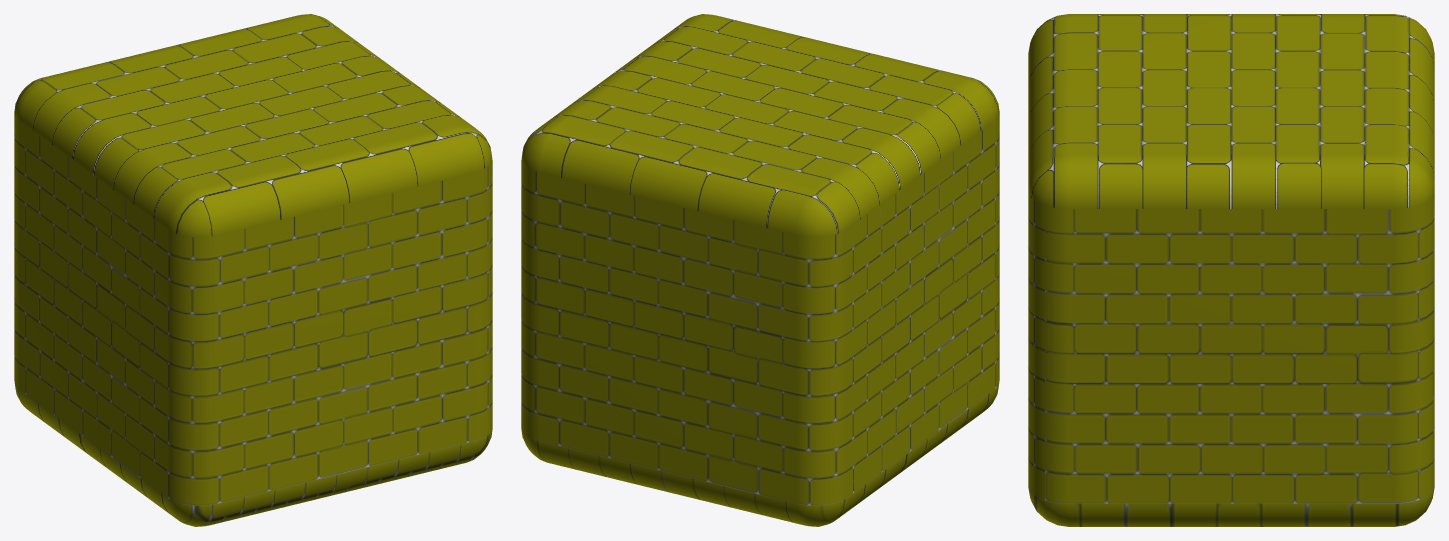
Rendered from Stage_Ground.fbx.
3 renders of one model, left to right at view 1: azimuth 30°, elevation 25°; view 2: azimuth 150°, elevation 25°; view 3: azimuth 270°, elevation 25°, orthographic. The views are drawn at different scales.
Visible parts, largest first — view 1: pCube2; view 2: pCube2; view 3: pCube2.
Boxes of the visible parts, bbox=[...] form: pCube2: bbox=[14, 14, 492, 526]; pCube2: bbox=[521, 14, 999, 526]; pCube2: bbox=[1028, 14, 1434, 526].
Size of the model in its own units: 100 by 100 by 100.
